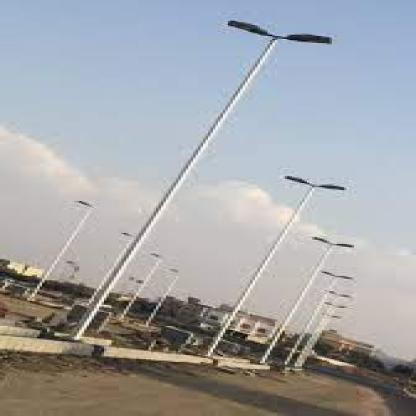light_pole: (64, 19, 332, 343), (198, 175, 347, 356), (254, 236, 354, 367), (280, 271, 352, 368), (25, 200, 94, 300)
